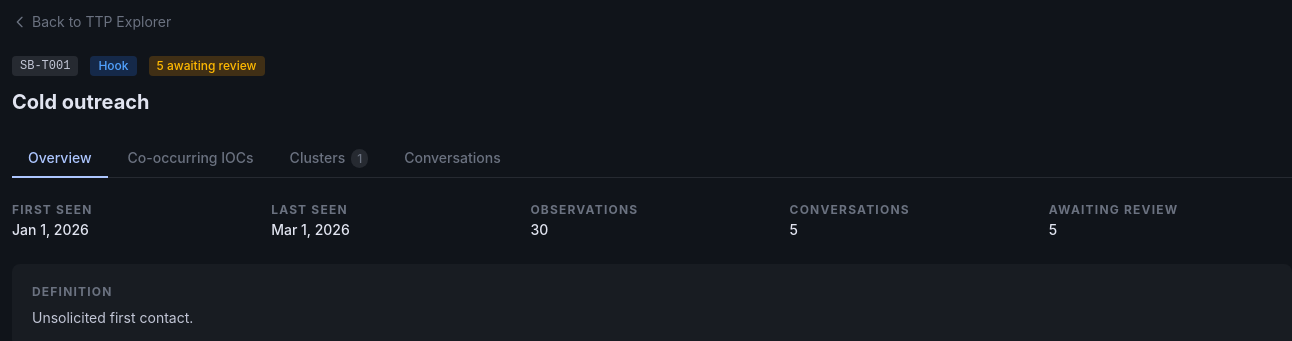
Test case: TtpDetail — coverage gaps › clusters tab shows the truncated note when the server cap bites
This screenshot has width=1292, height=341.
Check: the heading "Cold outreach" is shown, box top-left (12, 90), bottom-right (150, 114)
Step 1. Click the button with test id "ttp-detail-tab-clusters" → click(329, 159), box top-left (274, 140), bottom-right (384, 178)
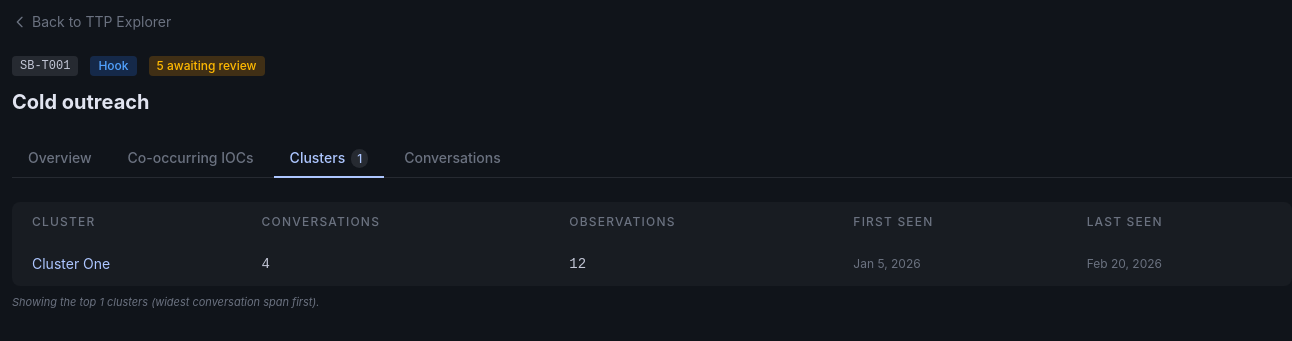
Check: the text with test id "ttp-clusters-truncated" shows "top 1 clusters", box top-left (12, 295), bottom-right (320, 309)
